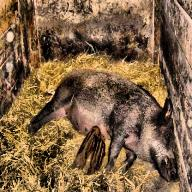boar: (3, 18, 192, 189)
